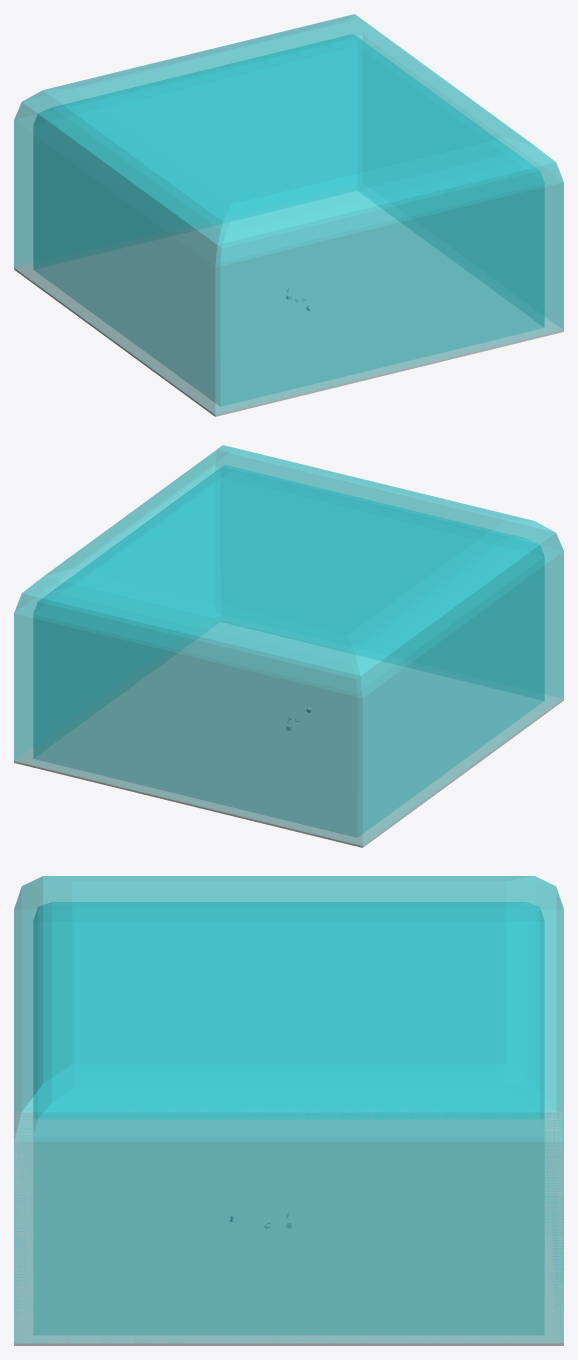
File: test_level.gltf
3 renders of one model, top to bottom at view 1: azimuth 30°, elevation 25°; view 2: azimuth 150°, elevation 25°; view 3: azimuth 270°, elevation 25°, orthographic. The views are drawn at different scales.
Parts seen in each view (by area): view 1: glass, floor; view 2: glass, floor; view 3: glass, floor.
Part boxes in pixels (box(x1,y1,x2,y2)): glass: box(14, 14, 563, 414); floor: box(14, 183, 563, 416); glass: box(14, 445, 563, 845); floor: box(14, 614, 563, 847); glass: box(14, 876, 563, 1343); floor: box(14, 1111, 563, 1345).
Size of the model in its own units: 200 by 103 by 200.
